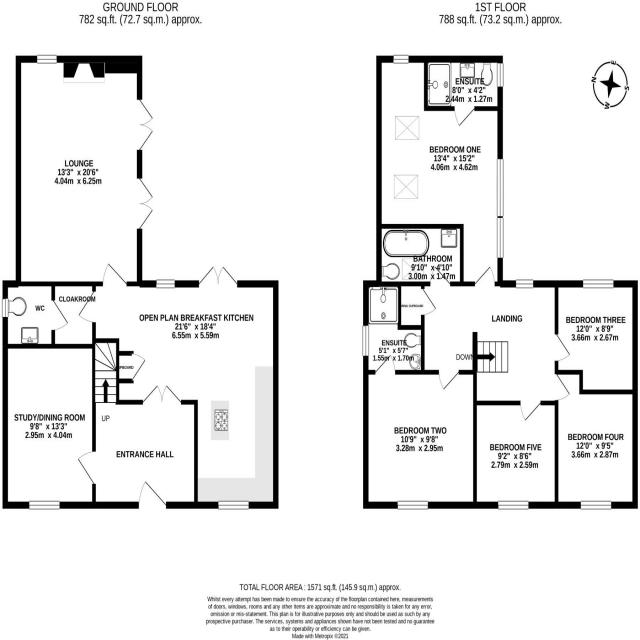DOOR: (136, 479, 168, 509), (76, 448, 96, 487), (76, 289, 96, 325), (103, 260, 129, 287), (51, 297, 69, 333), (554, 330, 573, 364), (436, 369, 461, 393), (518, 401, 542, 425), (554, 372, 572, 402), (453, 106, 476, 129), (474, 264, 497, 287), (374, 353, 398, 375)
DOUBLE DOOR: (135, 173, 157, 233), (135, 96, 158, 152), (198, 263, 239, 288), (141, 382, 182, 405)
ROOM: (91, 260, 280, 511), (15, 55, 157, 288), (376, 55, 504, 287), (363, 353, 477, 509), (3, 343, 97, 510), (555, 280, 638, 396), (473, 400, 559, 509)
WINDOW: (496, 157, 505, 261), (495, 499, 529, 511), (396, 499, 429, 511), (27, 500, 61, 511), (578, 499, 612, 510), (582, 278, 615, 289), (217, 500, 250, 510), (35, 53, 59, 65), (496, 60, 505, 88), (362, 323, 369, 358), (154, 279, 177, 289), (514, 279, 534, 290), (0, 296, 9, 320), (392, 53, 409, 65)
